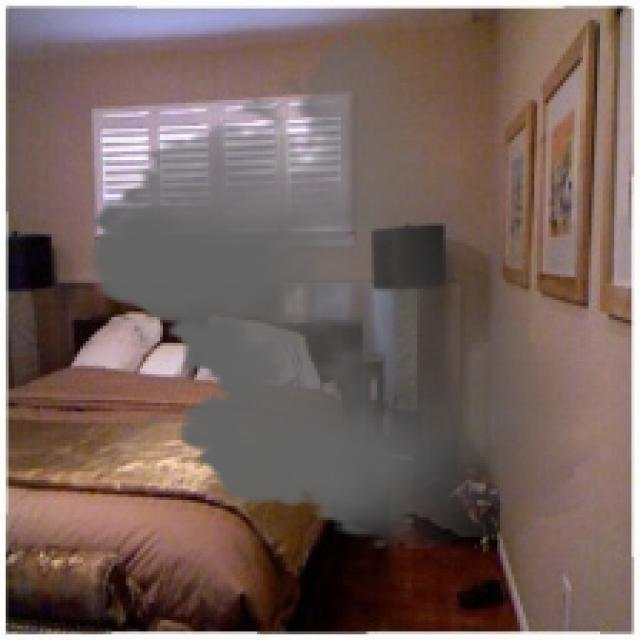Smoke: (71, 26, 614, 548)
